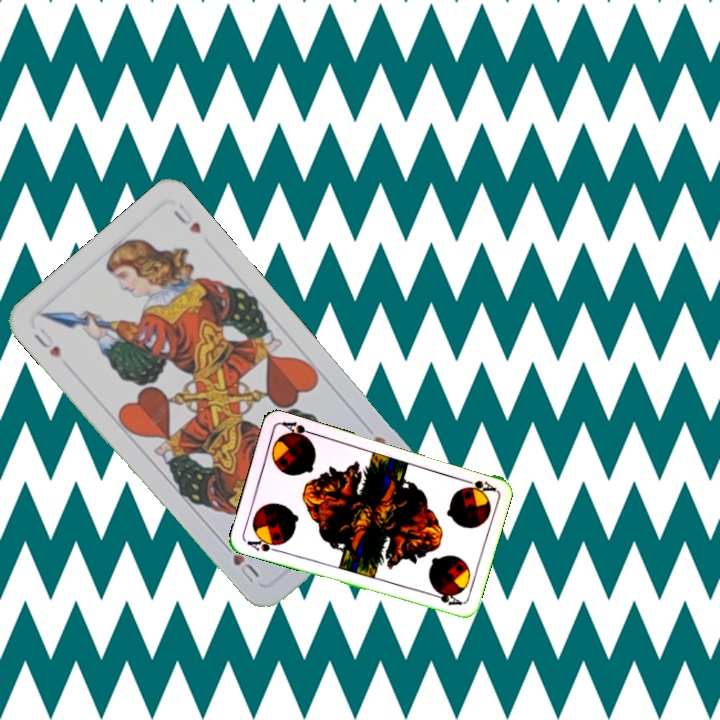HU: (29, 323, 64, 361)
SA: (243, 534, 284, 555), (457, 475, 498, 495)
